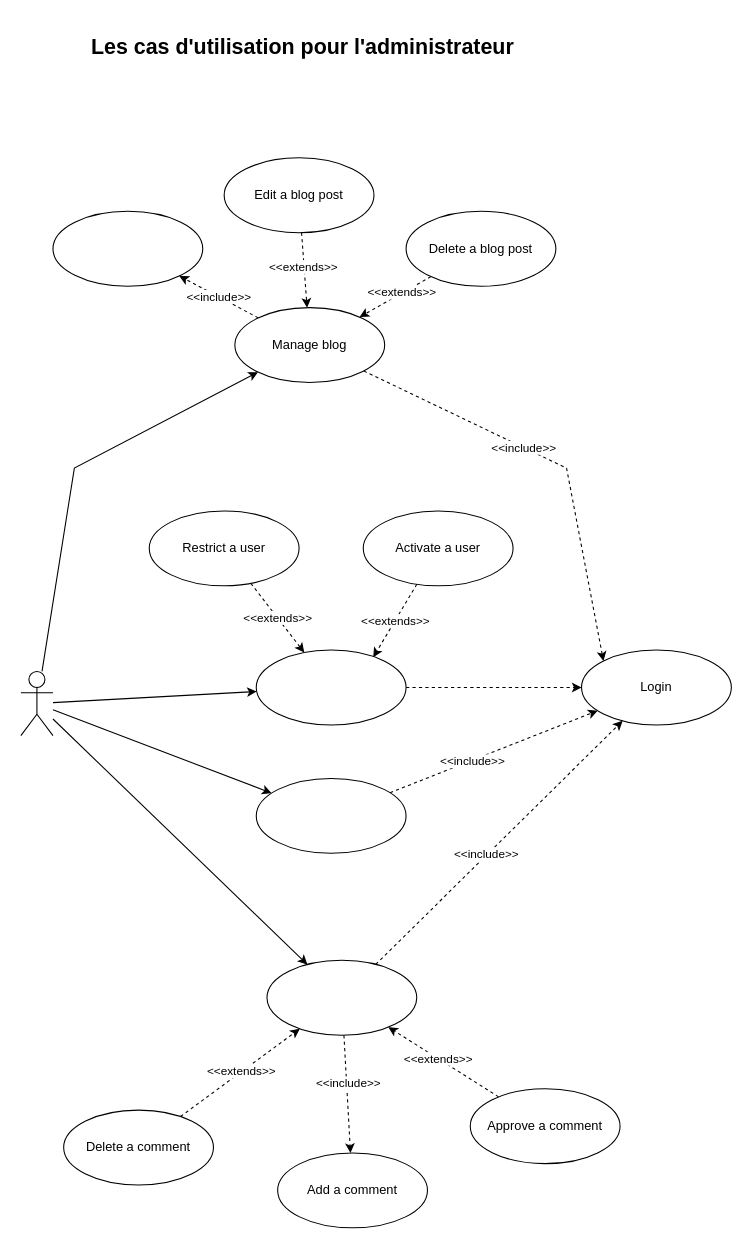
The diagram is 750 pixels wide and 1247 high, and some of its shapes have lost their labels. The shapes that lost their labels are listed below. From the top down, each one's centre as x and y in pixels, then its label:
At (127,248): "Add a blog post".
At (36,703): "Admin".
At (330,687): "Manage users".
At (330,815): "Manage profile".
At (341,997): "Manage comments".
